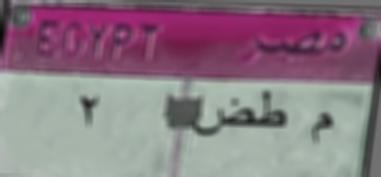2: (75, 89, 105, 134)
Taa: (254, 88, 289, 134)
daad: (191, 92, 254, 138)
meem: (304, 106, 337, 150)
